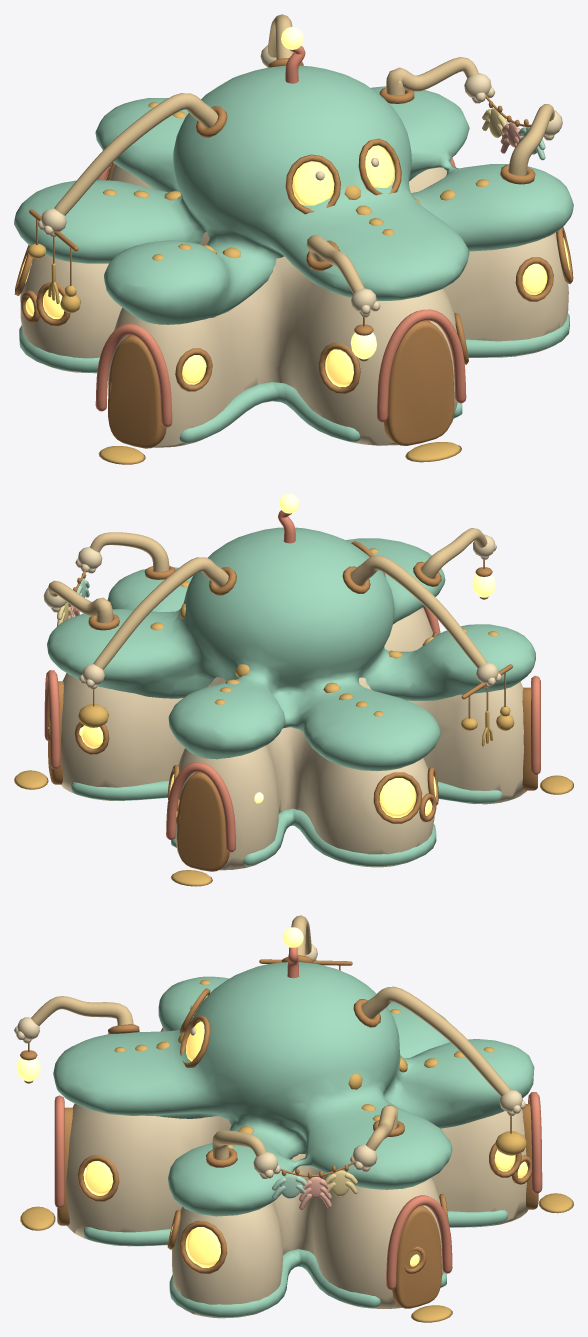
The model's file is house_06_0607.fbx.
The picture shows the model from 3 angles, top to bottom: view 1: azimuth 30°, elevation 25°; view 2: azimuth 150°, elevation 25°; view 3: azimuth 270°, elevation 25°; orthographic projection. The views are drawn at different scales.
Visible parts, largest first — view 1: Tawan_RoofMantle, Tawan_Body, Tawan_Door_Main, Tawan_WindowRims, Tawan_BaseCushion, Tawan_Windows, Tawan_Door_FrontLeft, Tawan_Arm_ToolsL, Tawan_DoorRim_Main, Tawan_DoorRim_FrontLeft, Tawan_ArmHands, Tawan_Arm_ClothesB (+8 smaller); view 2: Tawan_RoofMantle, Tawan_Body, Tawan_BaseCushion, Tawan_Door_Back, Tawan_Arm_ToolsL, Tawan_Arm_ToolsBack, Tawan_WindowRims, Tawan_ArmHands, Tawan_DoorRim_Back, Tawan_Windows, Tawan_Arm_ClothesA, Tawan_Tools (+10 smaller); view 3: Tawan_RoofMantle, Tawan_Body, Tawan_BaseCushion, Tawan_WindowRims, Tawan_Door_BackRight, Tawan_Windows, Tawan_Arm_ToolsBack, Tawan_ArmHands, Tawan_DoorRim_BackRight, Tawan_Arm_Lantern, Tawan_DoorRim_Main, Tawan_RoofDots (+12 smaller).
Boxes of the visible parts, x1,y1,x2,y2 form: Tawan_RoofMantle: [14, 65, 573, 324]; Tawan_Body: [20, 164, 568, 447]; Tawan_Door_Main: [384, 320, 454, 445]; Tawan_WindowRims: [14, 138, 573, 393]; Tawan_BaseCushion: [19, 313, 569, 443]; Tawan_Windows: [20, 145, 569, 387]; Tawan_Door_FrontLeft: [108, 335, 166, 448]; Tawan_Arm_ToolsL: [54, 93, 218, 215]; Tawan_DoorRim_Main: [377, 309, 466, 422]; Tawan_DoorRim_FrontLeft: [95, 324, 172, 427]; Tawan_ArmHands: [37, 45, 562, 317]; Tawan_Arm_ClothesB: [386, 57, 478, 95]; Tawan_RoofMantle: [47, 527, 535, 770]; Tawan_Body: [61, 607, 526, 870]; Tawan_BaseCushion: [71, 780, 502, 866]; Tawan_Door_Back: [177, 772, 229, 871]; Tawan_Arm_ToolsL: [350, 555, 487, 668]; Tawan_Arm_ToolsBack: [93, 557, 228, 669]; Tawan_WindowRims: [47, 541, 438, 824]; Tawan_ArmHands: [43, 534, 501, 689]; Tawan_DoorRim_Back: [166, 762, 235, 852]; Tawan_Windows: [48, 725, 436, 817]; Tawan_Arm_ClothesA: [90, 532, 169, 571]; Tawan_Tools: [78, 704, 514, 746]; Tawan_RoofMantle: [53, 962, 534, 1216]; Tawan_Body: [66, 1103, 527, 1318]; Tawan_BaseCushion: [83, 1210, 507, 1317]; Tawan_WindowRims: [77, 988, 531, 1274]; Tawan_Door_BackRight: [392, 1205, 441, 1308]; Tawan_Windows: [83, 995, 527, 1267]; Tawan_Arm_ToolsBack: [362, 986, 510, 1096]; Tawan_ArmHands: [14, 943, 525, 1178]; Tawan_DoorRim_BackRight: [386, 1195, 452, 1290]; Tawan_Arm_Lantern: [31, 996, 133, 1025]; Tawan_DoorRim_Main: [54, 1095, 64, 1208]; Tawan_RoofDots: [114, 980, 494, 1148].
Size of the model in its own units: 6.61 by 3.98 by 6.95.
